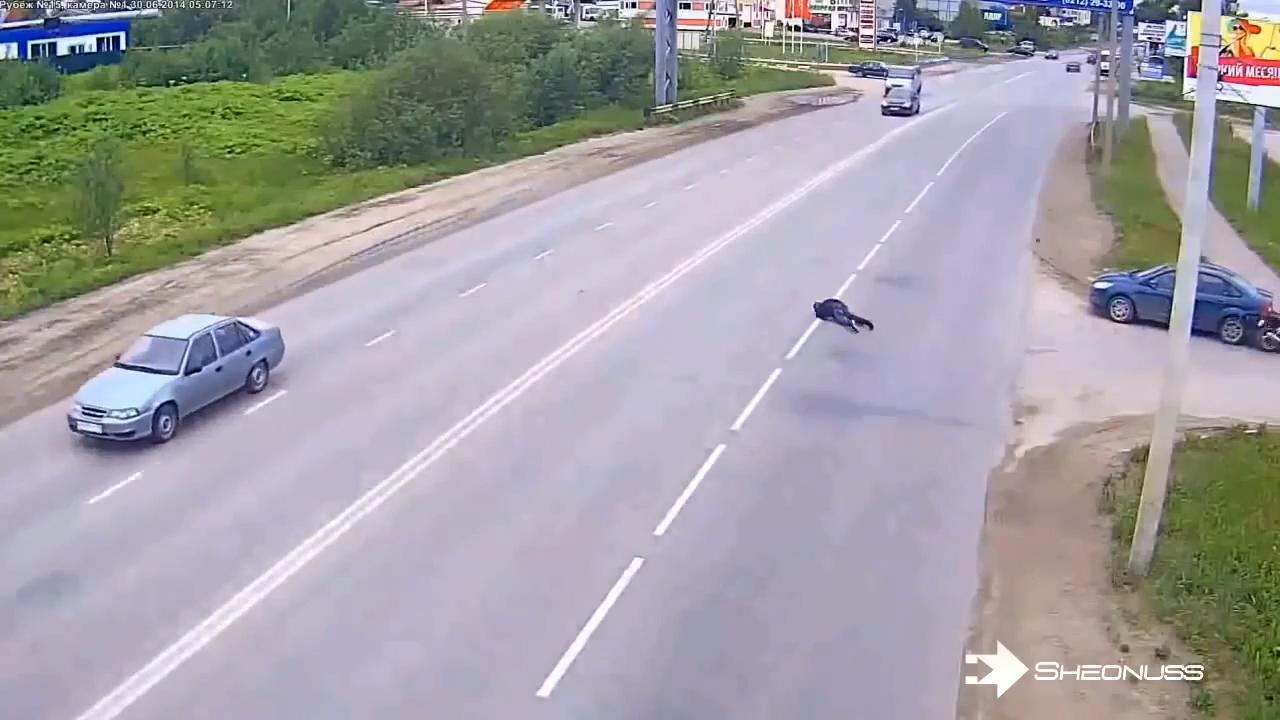accident: (809, 289, 885, 341)
